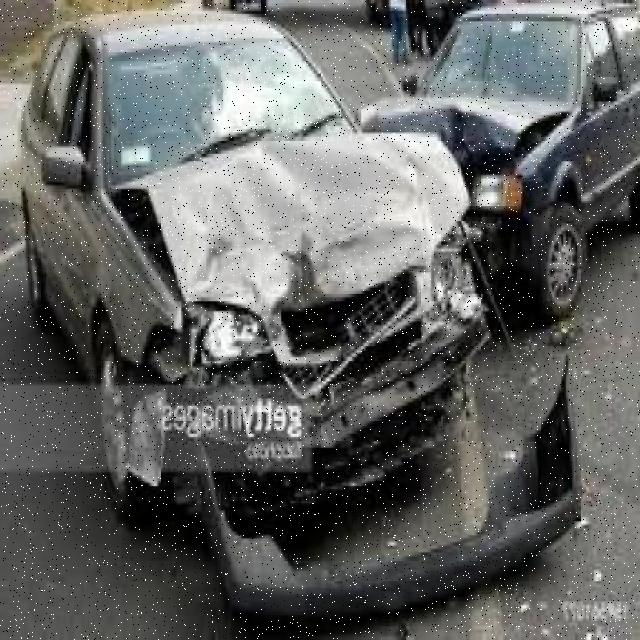damage: (132, 134, 494, 542)
